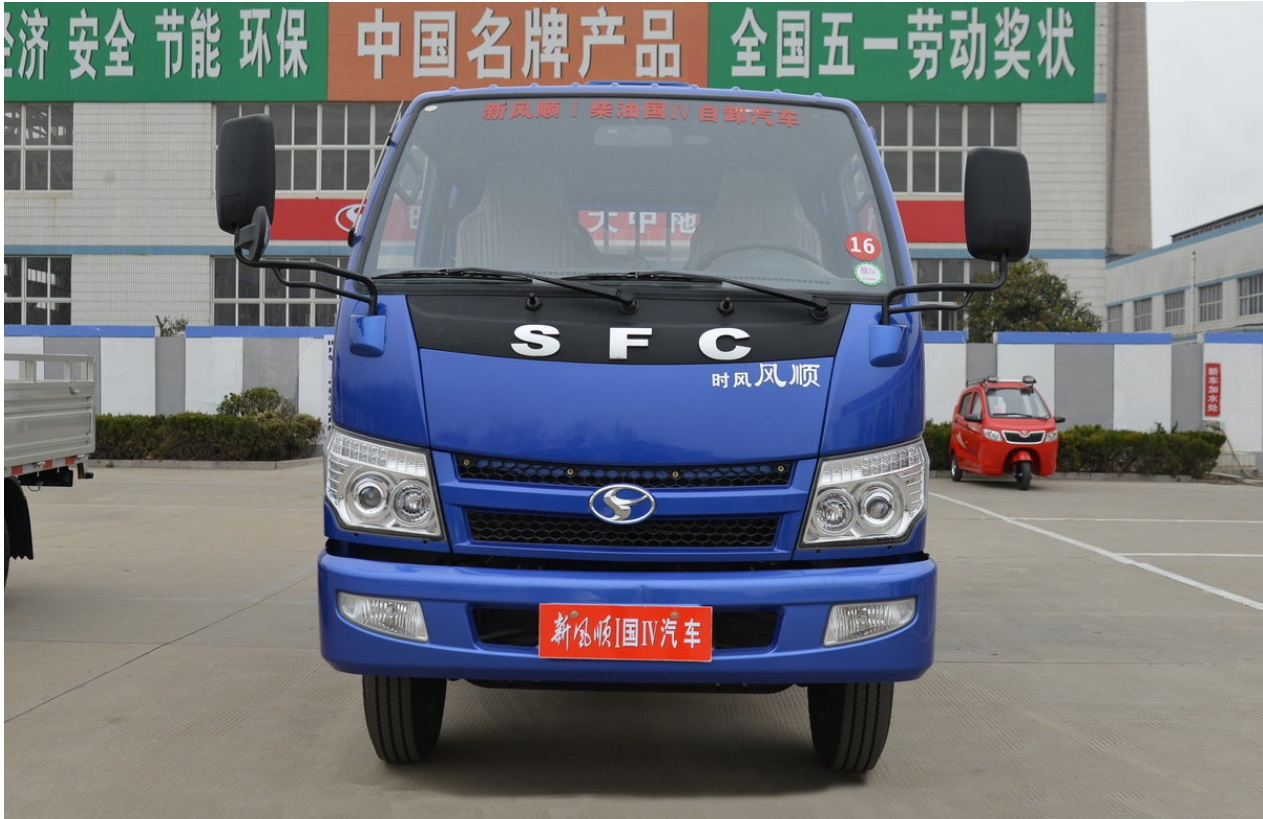truck: (206, 73, 1045, 792)
